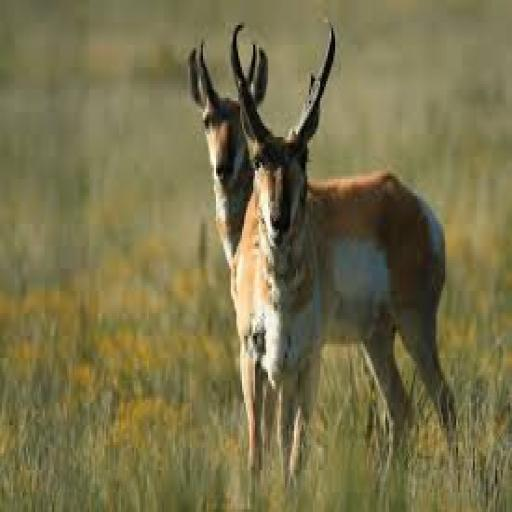antelope: (180, 36, 476, 465), (228, 16, 339, 502)
